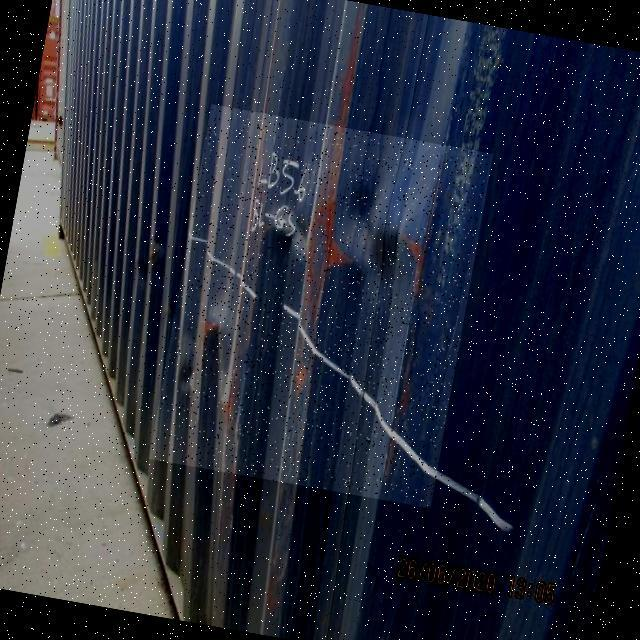Dent: (149, 105, 493, 509)
